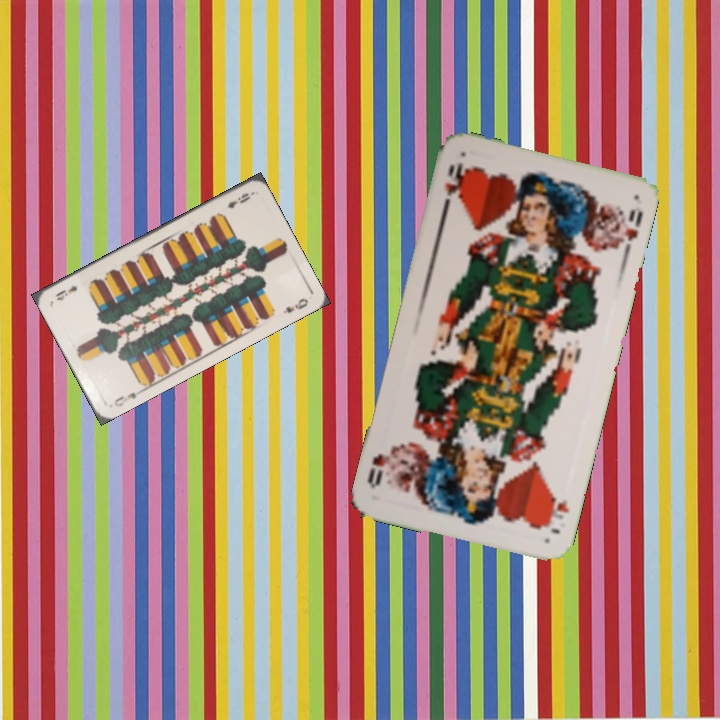E9: (110, 385, 145, 410), (223, 189, 253, 211)
HO: (438, 159, 465, 213), (541, 489, 571, 536)
